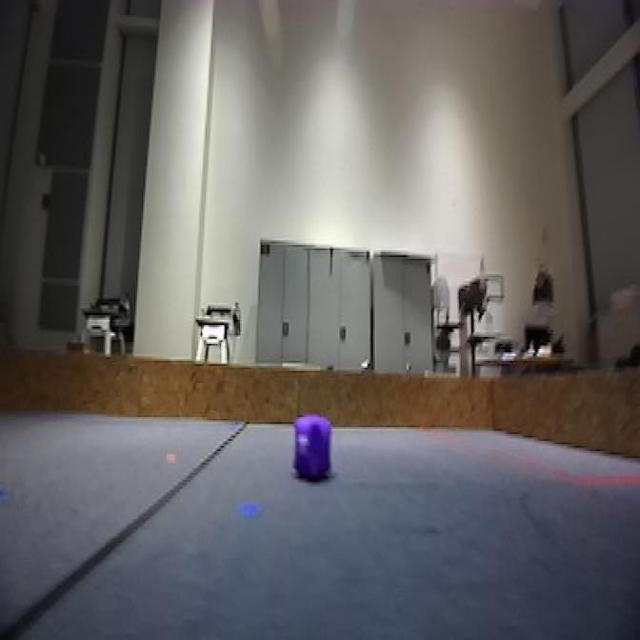frc_cube: (294, 417, 334, 485)
